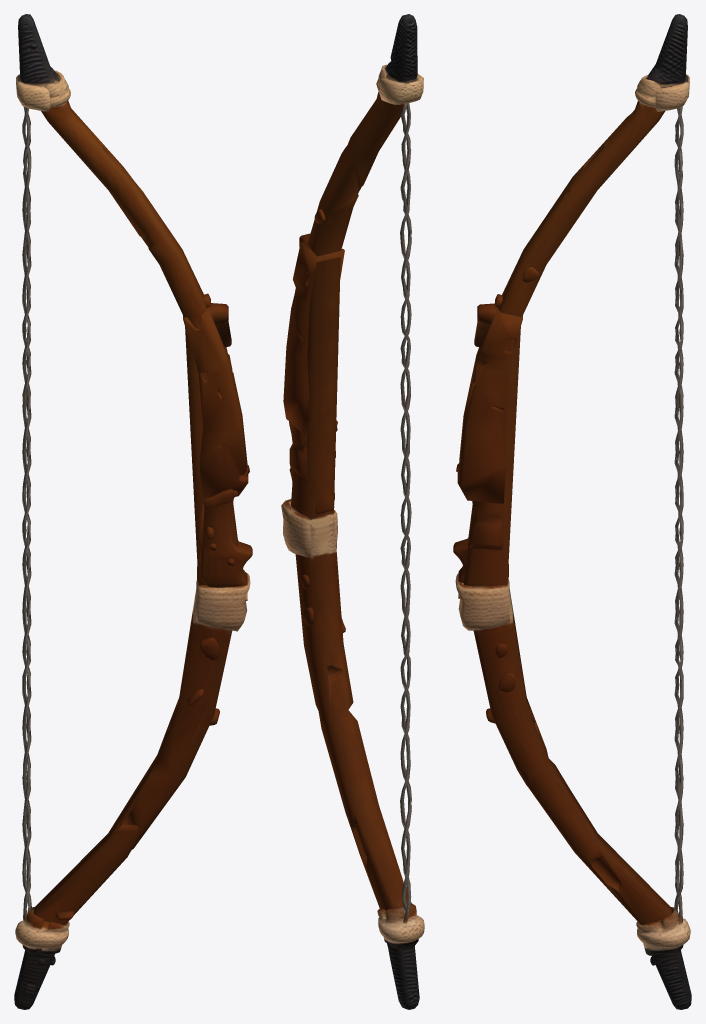
File: bow.glb
3 renders of one model, left to right at view 1: azimuth 90°, elevation 25°; view 2: azimuth 210°, elevation 25°; view 3: azimuth 270°, elevation 25°, orthographic.
Visible parts, largest first — view 1: tripo_node_c12955de-a905-4c4f-a5df-ff14959698a4; view 2: tripo_node_c12955de-a905-4c4f-a5df-ff14959698a4; view 3: tripo_node_c12955de-a905-4c4f-a5df-ff14959698a4.
Boxes of the visible parts, x1=… form: tripo_node_c12955de-a905-4c4f-a5df-ff14959698a4: x1=14, y1=14, x2=252, y2=1009; tripo_node_c12955de-a905-4c4f-a5df-ff14959698a4: x1=281, y1=14, x2=424, y2=1009; tripo_node_c12955de-a905-4c4f-a5df-ff14959698a4: x1=453, y1=14, x2=691, y2=1009.
Size of the model in its own units: 0.054 by 1.3 by 0.2826.
1 material, 1 textured.
